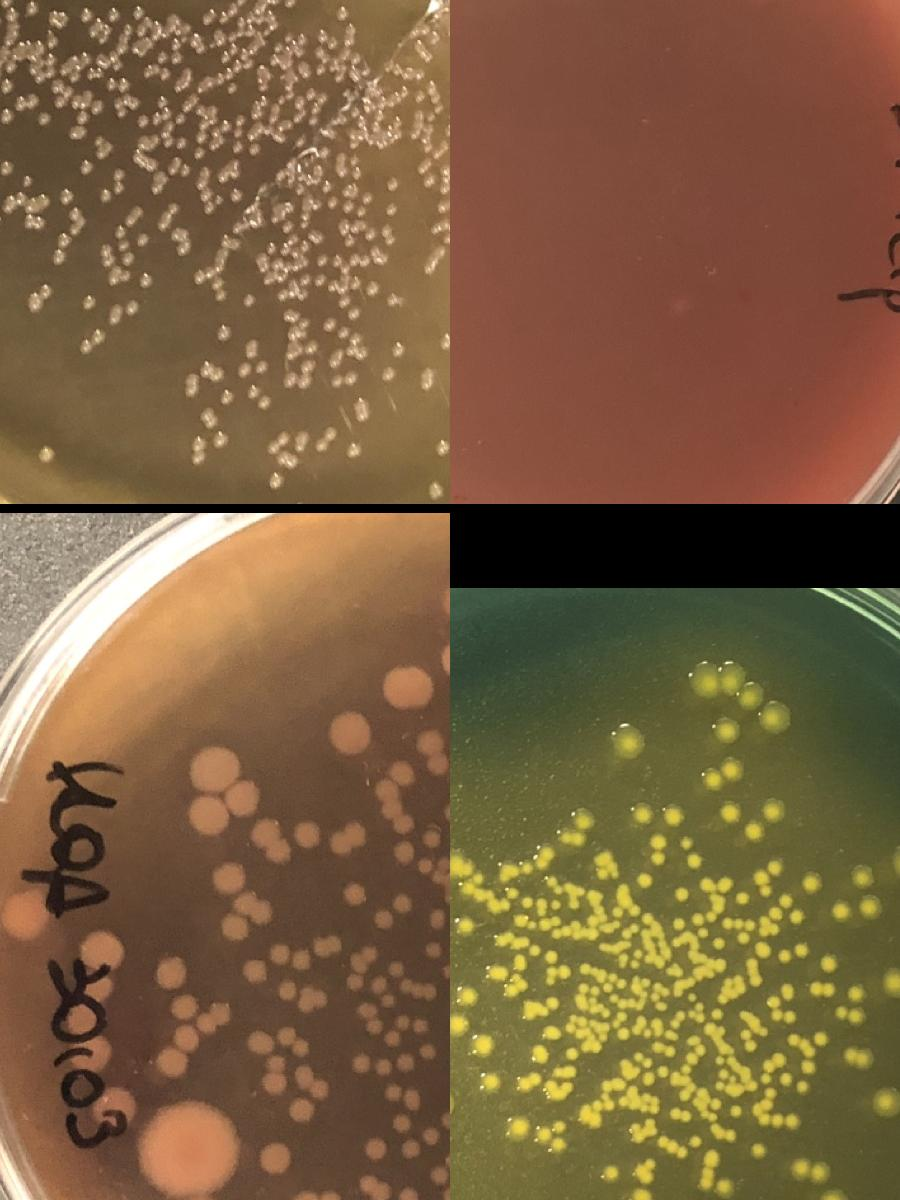assalmonicida: (212, 42, 244, 95), (136, 94, 172, 128), (341, 184, 374, 218), (281, 358, 316, 390), (346, 246, 387, 268), (312, 28, 340, 60), (49, 232, 72, 268), (48, 79, 74, 110), (216, 0, 248, 24), (42, 32, 60, 68), (337, 294, 360, 321), (246, 385, 270, 410), (266, 431, 290, 456), (322, 318, 348, 340), (314, 427, 336, 452), (200, 193, 226, 214), (192, 168, 212, 191), (200, 362, 224, 381), (379, 222, 396, 248), (154, 50, 183, 65), (0, 0, 18, 24), (124, 206, 143, 228), (12, 94, 38, 110), (208, 278, 225, 302), (298, 64, 326, 78), (330, 372, 358, 386), (184, 372, 198, 398), (336, 220, 362, 234), (22, 216, 46, 231), (56, 186, 74, 206), (200, 408, 217, 429), (48, 12, 70, 27), (242, 338, 258, 358), (418, 370, 432, 392), (107, 305, 122, 325), (425, 481, 440, 501), (98, 245, 112, 266), (38, 281, 52, 301), (22, 0, 37, 18), (78, 160, 92, 179), (282, 308, 298, 324), (378, 366, 394, 382), (190, 450, 204, 468), (78, 7, 94, 22), (352, 346, 368, 361), (390, 341, 405, 357), (270, 130, 286, 144), (346, 276, 362, 290), (326, 354, 340, 369), (444, 70, 450, 103), (2, 60, 16, 74), (70, 126, 84, 140), (74, 110, 88, 124), (90, 100, 104, 114), (131, 6, 145, 20), (158, 68, 172, 82), (173, 136, 187, 150), (177, 164, 191, 178), (191, 270, 205, 284), (191, 147, 205, 161), (194, 104, 208, 118), (213, 435, 227, 449), (220, 390, 234, 404), (228, 188, 242, 202), (230, 139, 244, 153), (232, 112, 246, 126), (236, 363, 250, 377), (244, 292, 258, 306), (246, 142, 260, 156), (254, 359, 268, 373), (266, 241, 280, 255), (269, 475, 283, 489), (276, 289, 290, 303), (280, 219, 294, 233), (294, 432, 308, 446), (326, 194, 340, 208), (336, 6, 350, 20), (341, 34, 355, 48), (342, 236, 356, 250), (346, 444, 360, 458), (348, 52, 362, 66), (364, 282, 378, 296), (384, 292, 398, 306), (384, 204, 398, 218), (438, 334, 450, 350), (106, 10, 120, 23), (135, 232, 148, 246), (189, 34, 202, 48), (216, 327, 230, 340), (308, 229, 322, 242), (312, 255, 326, 268), (330, 255, 344, 268), (362, 228, 376, 241), (0, 109, 13, 122), (385, 177, 398, 190), (2, 197, 14, 211), (36, 112, 50, 124), (78, 342, 92, 354), (98, 189, 112, 201), (112, 167, 124, 181), (138, 274, 152, 286), (173, 112, 187, 124), (194, 130, 206, 144), (200, 14, 214, 26), (270, 258, 284, 270), (294, 33, 308, 45), (304, 340, 316, 354), (312, 274, 326, 286), (0, 161, 12, 174), (1, 82, 14, 94), (116, 239, 129, 251), (120, 252, 133, 264), (20, 174, 32, 186), (40, 449, 52, 461), (82, 296, 94, 308), (112, 183, 124, 195), (112, 225, 124, 237), (118, 270, 130, 282), (126, 301, 138, 313), (266, 19, 278, 31), (283, 90, 295, 102), (293, 47, 305, 59), (304, 88, 316, 100), (306, 115, 318, 127), (316, 147, 328, 159), (320, 180, 332, 192), (333, 72, 345, 84), (436, 442, 448, 454), (281, 32, 292, 44), (283, 0, 297, 9)
pddamselae: (130, 1097, 243, 1200), (372, 760, 414, 835), (322, 704, 376, 762), (355, 1000, 400, 1048), (286, 1078, 328, 1128), (415, 728, 448, 777), (154, 1044, 190, 1080), (256, 1140, 292, 1176), (211, 861, 247, 896), (372, 1052, 416, 1080), (152, 956, 188, 990), (275, 1024, 310, 1058), (427, 1149, 450, 1200), (238, 956, 270, 989), (168, 991, 200, 1023), (290, 818, 322, 850), (340, 880, 368, 908), (389, 840, 415, 868), (360, 1136, 386, 1162), (328, 829, 352, 857), (261, 1072, 287, 1096), (397, 1137, 421, 1161), (437, 638, 450, 680), (268, 942, 290, 966), (370, 910, 394, 932), (391, 893, 414, 915), (380, 1080, 402, 1102), (276, 978, 296, 1000), (410, 1015, 430, 1037), (416, 1040, 436, 1062), (350, 1052, 368, 1074), (392, 1112, 410, 1134), (344, 973, 363, 993), (386, 960, 405, 978), (378, 992, 396, 1010), (424, 942, 442, 960), (288, 1189, 317, 1200), (414, 856, 431, 874), (421, 1128, 439, 1144), (398, 1187, 418, 1200), (437, 962, 450, 979), (441, 800, 450, 824), (439, 1111, 450, 1129)
pdpiscicida: (672, 298, 686, 314)
sinniae: (686, 660, 791, 735), (450, 849, 519, 913), (520, 875, 583, 942), (756, 1052, 798, 1128), (576, 970, 628, 1006), (668, 990, 706, 1030), (690, 900, 726, 939), (533, 1120, 568, 1156), (640, 975, 672, 1013), (708, 714, 742, 749), (678, 1034, 707, 1074), (612, 723, 644, 757), (718, 916, 754, 946), (869, 1084, 900, 1118), (520, 846, 554, 875), (790, 1158, 828, 1182), (766, 995, 796, 1024), (632, 1050, 654, 1086), (786, 1032, 814, 1060), (878, 965, 900, 999), (711, 1054, 729, 1094), (626, 1123, 658, 1145), (698, 1176, 733, 1196), (696, 1098, 722, 1124), (832, 1006, 864, 1026), (512, 1072, 540, 1094), (742, 819, 766, 844), (633, 1158, 656, 1184), (608, 895, 632, 919), (718, 800, 742, 824), (720, 757, 744, 781), (761, 798, 785, 822), (800, 871, 824, 895), (850, 864, 874, 888), (856, 895, 880, 919), (507, 1116, 530, 1140), (710, 993, 729, 1021), (828, 899, 850, 923), (650, 1040, 676, 1060), (754, 871, 772, 899), (560, 1065, 577, 1094), (664, 1139, 688, 1159), (450, 1014, 469, 1038), (738, 1028, 757, 1052), (626, 947, 644, 972), (814, 1188, 849, 1200), (618, 922, 640, 941), (454, 916, 474, 936), (456, 986, 476, 1006), (573, 811, 593, 831), (600, 1164, 620, 1184), (662, 806, 682, 826), (748, 1141, 768, 1161), (854, 1050, 874, 1070), (668, 1108, 692, 1124), (480, 1071, 499, 1091), (508, 972, 526, 993), (808, 982, 835, 996), (472, 1036, 492, 1054), (530, 1044, 548, 1064), (700, 770, 720, 788), (818, 954, 836, 974), (846, 982, 864, 1002), (704, 1022, 726, 1038), (494, 930, 513, 948), (590, 1098, 614, 1112), (756, 924, 780, 938), (485, 966, 508, 980), (579, 1040, 602, 1054), (891, 844, 900, 878), (629, 1189, 653, 1200), (780, 984, 794, 999), (500, 864, 514, 878), (512, 954, 526, 968), (544, 949, 558, 963), (544, 996, 558, 1010), (558, 829, 572, 843), (564, 1047, 578, 1061), (574, 1014, 588, 1028), (578, 962, 592, 976), (598, 1007, 612, 1021), (616, 1027, 630, 1041), (640, 1027, 654, 1041), (640, 912, 654, 926), (647, 1102, 661, 1116), (650, 852, 664, 866), (654, 1064, 668, 1078), (669, 936, 683, 950), (674, 887, 688, 901), (678, 836, 692, 850), (686, 854, 700, 868), (698, 878, 712, 892), (712, 936, 726, 950), (718, 878, 732, 892), (722, 1128, 736, 1142), (726, 1104, 740, 1118), (744, 1079, 758, 1093), (744, 957, 758, 971), (748, 973, 762, 987), (754, 1025, 768, 1039), (766, 906, 780, 920), (768, 861, 782, 875), (778, 1072, 792, 1086), (788, 910, 802, 924), (794, 1080, 808, 1094), (814, 1032, 828, 1046), (566, 898, 580, 911), (734, 892, 748, 905), (777, 949, 790, 963), (778, 895, 792, 908), (526, 944, 540, 956), (558, 966, 572, 978), (615, 1010, 629, 1022), (626, 1086, 640, 1098), (636, 874, 650, 886), (672, 918, 686, 930), (676, 1090, 690, 1102), (686, 1136, 700, 1148), (714, 958, 726, 972), (754, 946, 768, 958), (793, 944, 807, 956), (800, 1062, 814, 1074)
